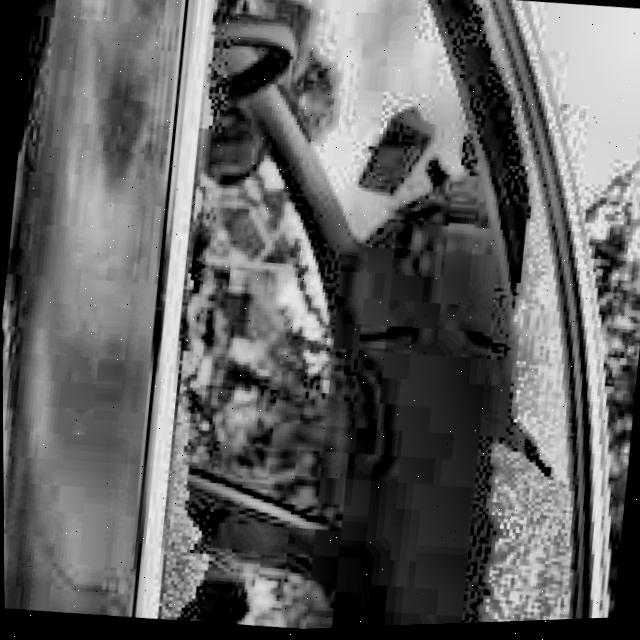glass_shatter: (148, 0, 606, 635)
